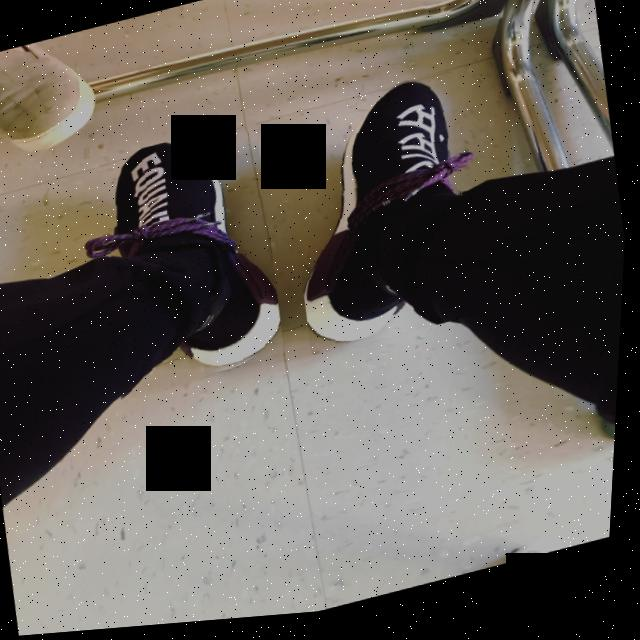shoe: (271, 72, 497, 365), (75, 121, 299, 408)
